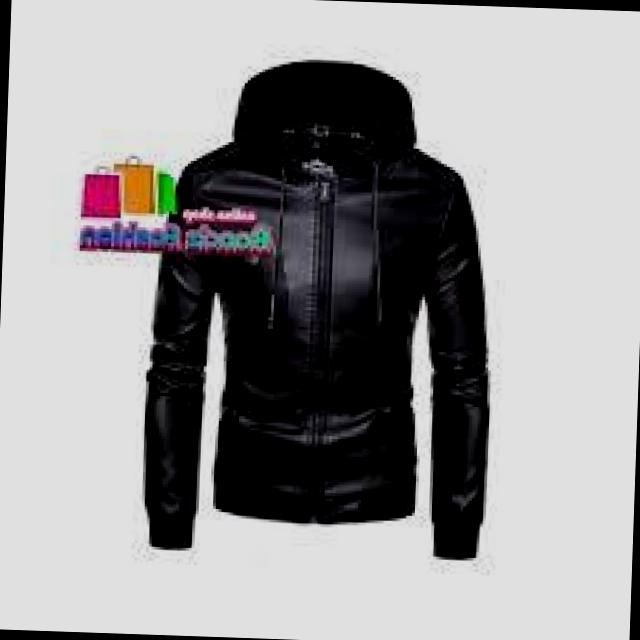jacket: (137, 54, 501, 566)
